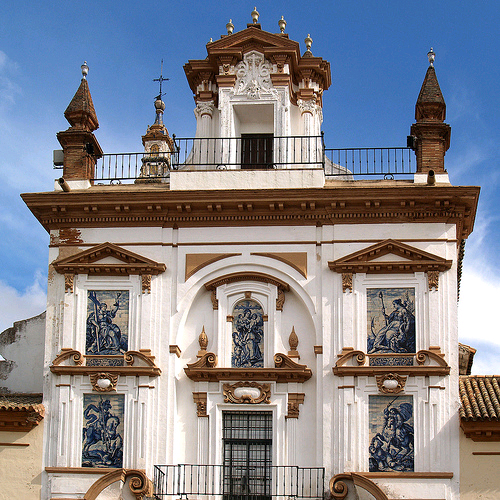fronton: (329, 238, 452, 273), (53, 241, 167, 276)
fronton-partido: (183, 351, 312, 382), (329, 347, 454, 378), (46, 349, 164, 379), (205, 27, 303, 55)
vano-adintelado: (205, 390, 290, 500)
